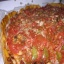pizza: (1, 5, 64, 64)
